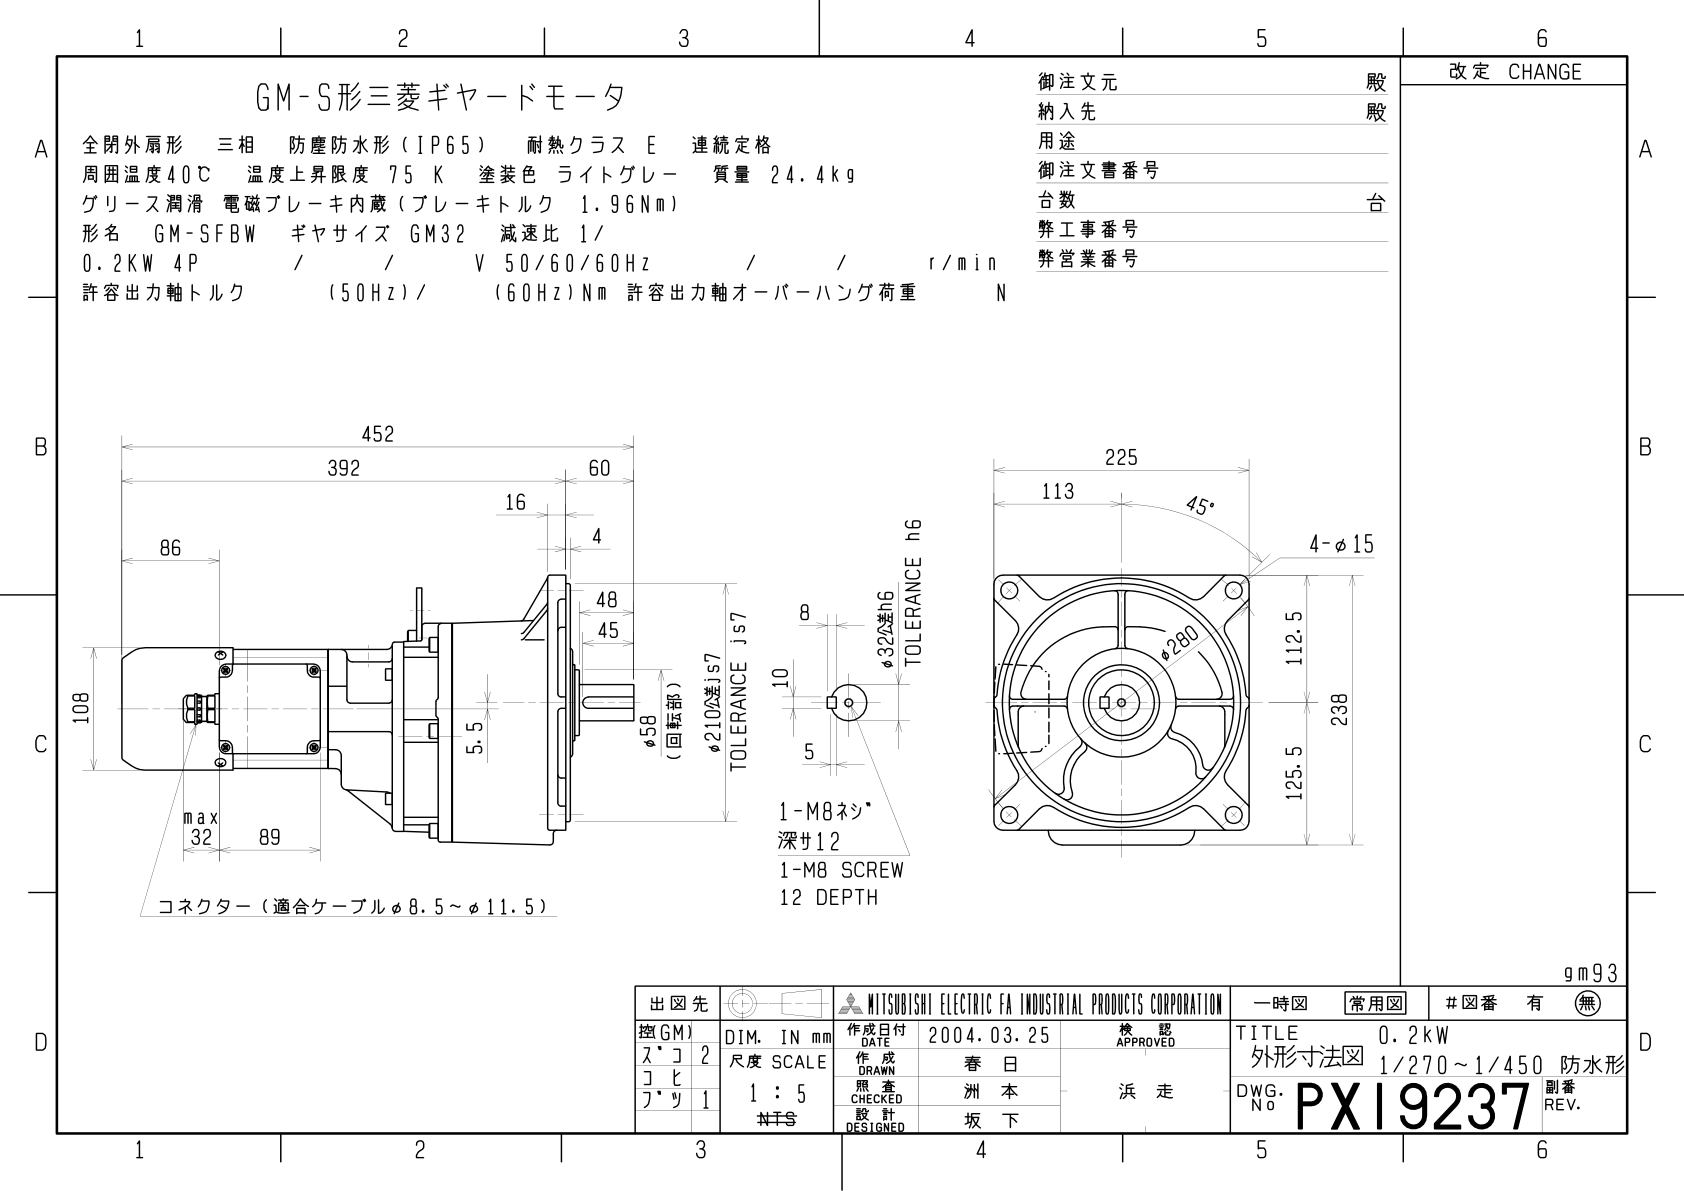GM_S_IP65＿三相_フランジ: (6, 10, 1684, 1191)
